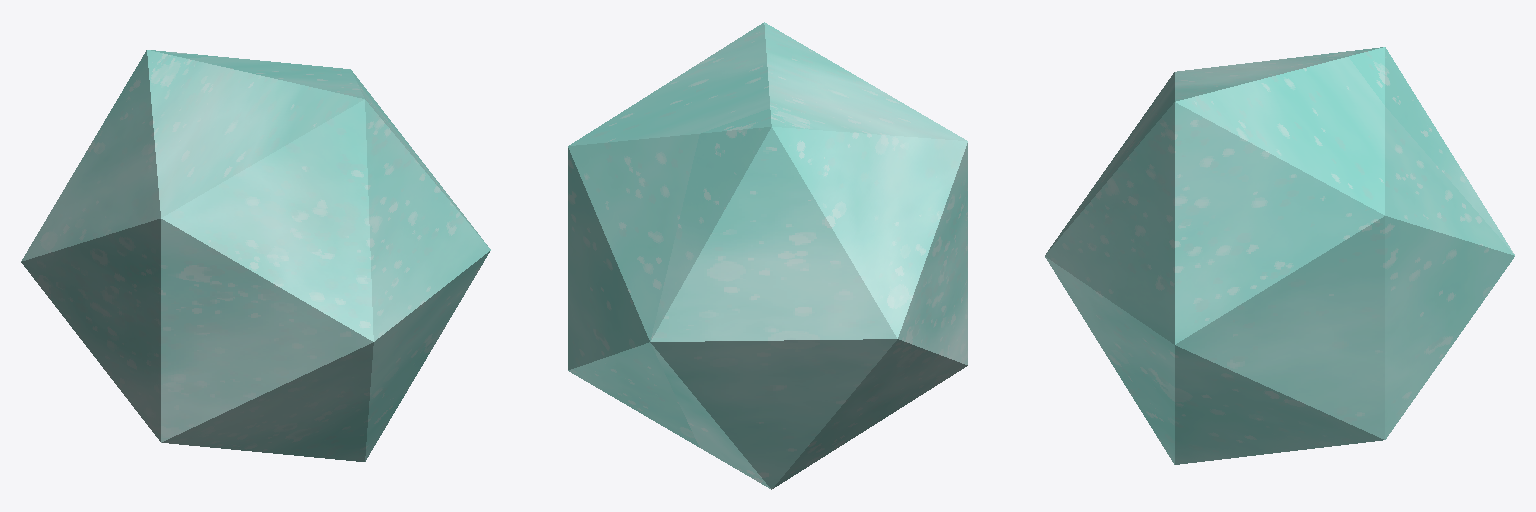
3 renders of one model, left to right at view 1: azimuth 30°, elevation 25°; view 2: azimuth 150°, elevation 25°; view 3: azimuth 270°, elevation 25°, orthographic.
Bounding box in the file's own units: 1.79 × 1.7 × 2.
Materials: 1 (1 with a texture image).